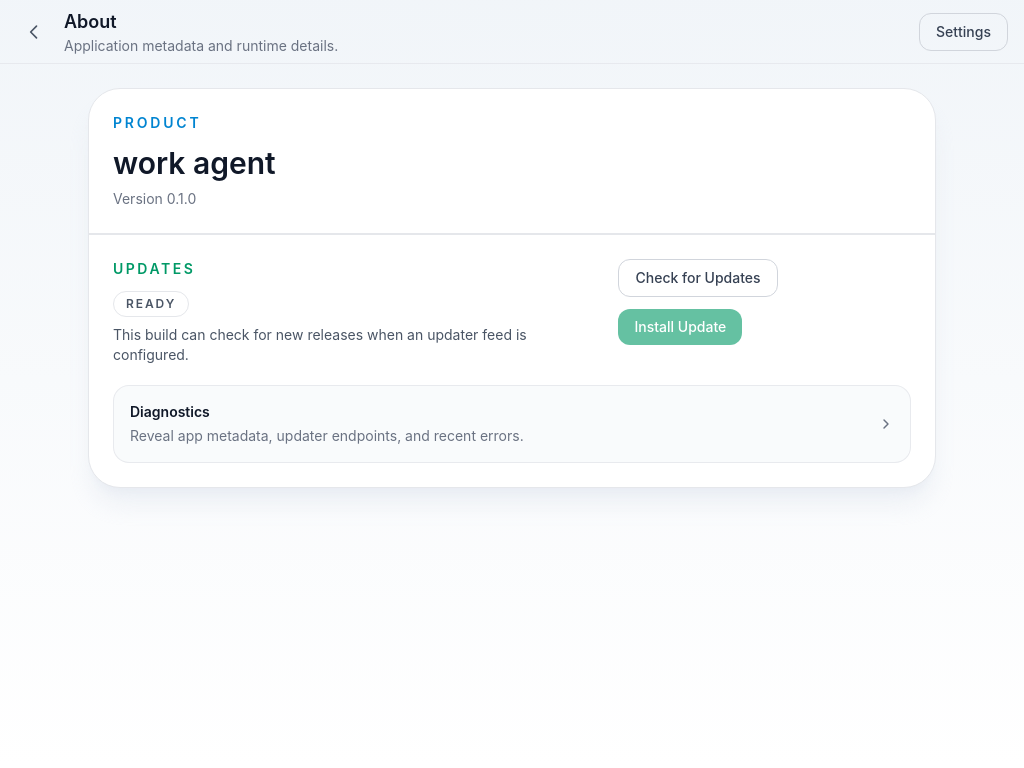
Test: AboutPage › shows raw updater errors and diagnostics when the check fails
This screenshot has width=1024, height=768.
Expected: the text "Diagnostics" is shown, x1=130 y1=403 x2=210 y2=420
Click the button "Check for Updates" at (698, 278), box x1=618 y1=259 x2=778 y2=297
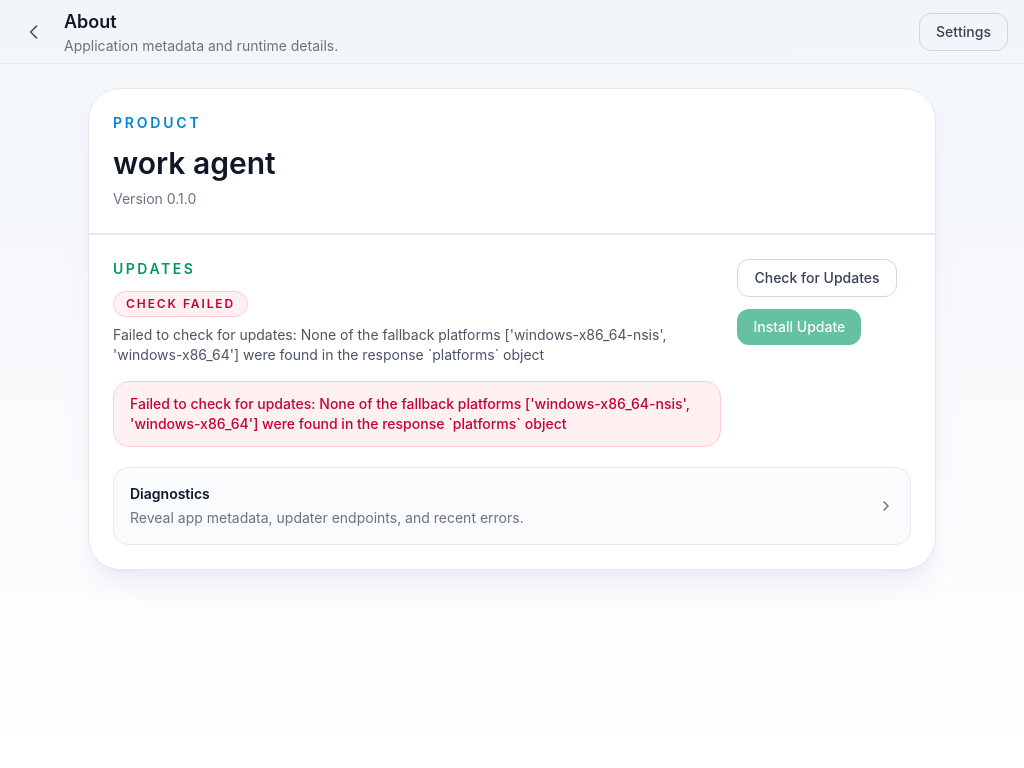
Result: the text "None of the fallback platforms" is shown at x1=113 y1=326 x2=666 y2=363
Click the text "Diagnostics" at (170, 494), box x1=130 y1=485 x2=210 y2=502
(page scrolled)
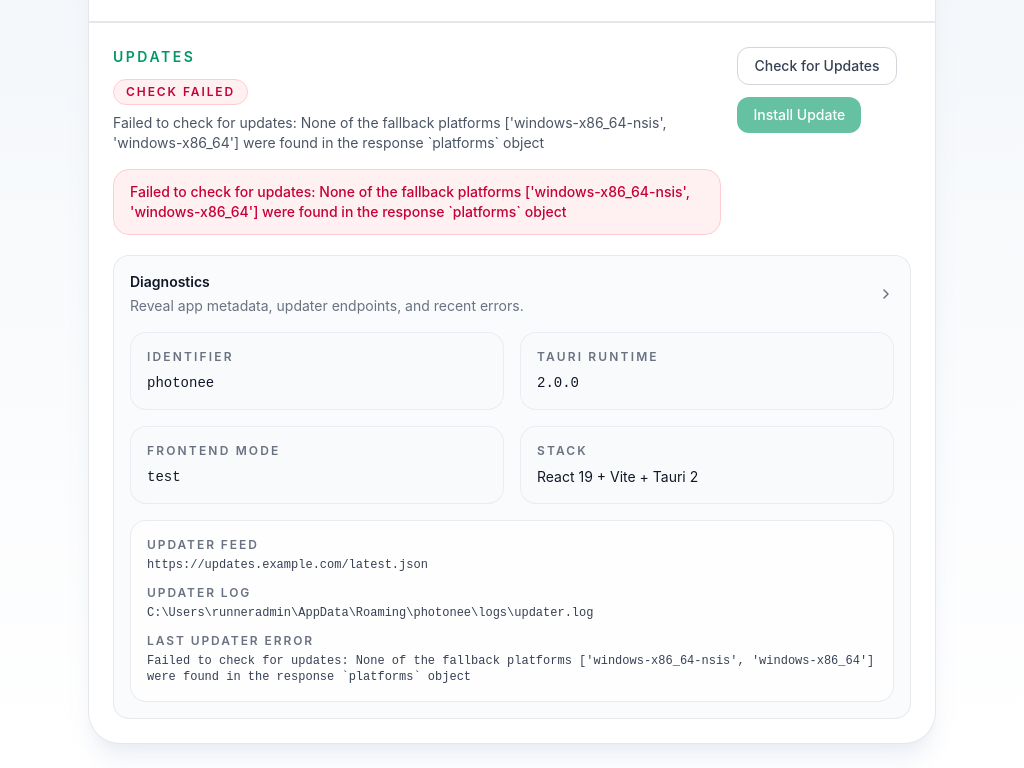
Result: the text "https://updates.example.com/latest.json" is shown at x1=147 y1=558 x2=428 y2=572
Result: the text "C:\\Users\\runneradmin\\AppData\\Roaming\\photonee\\logs\\updater.log" is shown at x1=147 y1=606 x2=594 y2=620
